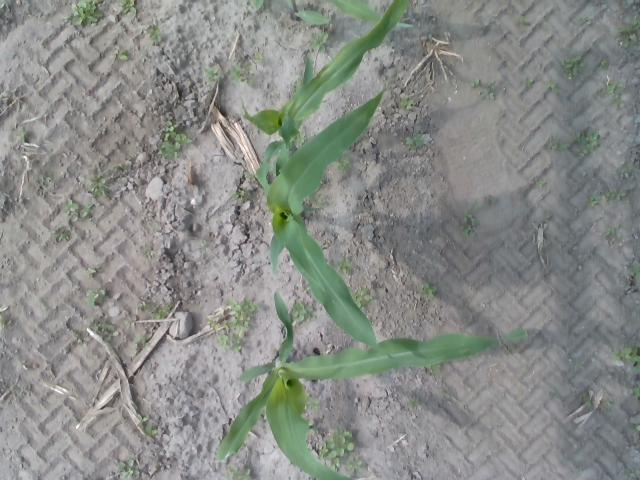Maize: (214, 291, 528, 480), (241, 0, 412, 211), (266, 88, 393, 360), (332, 0, 414, 27), (288, 0, 332, 25), (252, 1, 264, 12)
Weeds: (207, 294, 265, 354), (318, 421, 354, 472), (547, 130, 601, 156), (160, 121, 192, 159), (64, 0, 104, 26), (83, 168, 111, 199), (62, 198, 94, 224), (612, 344, 638, 374), (135, 299, 171, 320), (88, 318, 120, 340), (560, 55, 586, 80), (614, 24, 640, 48), (290, 299, 314, 324), (115, 458, 142, 480), (33, 168, 56, 192), (229, 64, 253, 86), (458, 211, 478, 237), (309, 31, 332, 53), (602, 186, 628, 202), (87, 286, 107, 306), (228, 464, 253, 480), (404, 132, 426, 150), (50, 226, 72, 244), (337, 254, 355, 274), (356, 287, 374, 307), (233, 184, 252, 202), (203, 64, 220, 84), (304, 393, 320, 414), (605, 81, 628, 95), (133, 334, 150, 352), (195, 234, 212, 252), (140, 241, 156, 260), (618, 162, 634, 180), (578, 390, 594, 408), (148, 22, 162, 42), (418, 282, 438, 296), (348, 458, 363, 475), (408, 393, 423, 410), (118, 0, 136, 14), (70, 328, 85, 344), (110, 48, 128, 61), (440, 386, 454, 402), (547, 75, 558, 95), (483, 195, 501, 207), (610, 94, 625, 108), (336, 158, 351, 172), (124, 315, 138, 330), (398, 98, 415, 110), (588, 191, 600, 208), (522, 76, 536, 90), (148, 218, 162, 232), (606, 400, 618, 416), (18, 130, 30, 145), (243, 171, 258, 183), (84, 266, 100, 277), (605, 226, 622, 236), (295, 132, 309, 144), (146, 425, 160, 437), (308, 416, 316, 437), (632, 382, 640, 402), (1, 90, 14, 102), (316, 191, 326, 206), (520, 14, 532, 26), (113, 164, 125, 176), (532, 177, 545, 188), (471, 77, 481, 91), (578, 16, 592, 26), (632, 264, 640, 281), (137, 412, 152, 421), (472, 199, 482, 212), (600, 59, 610, 70), (251, 51, 263, 60), (631, 422, 640, 434), (574, 363, 587, 371), (432, 364, 442, 374), (484, 91, 496, 99), (0, 313, 6, 328), (596, 92, 606, 100), (488, 81, 496, 89), (610, 236, 616, 246), (548, 117, 556, 123), (544, 215, 550, 222), (536, 64, 542, 70), (0, 3, 5, 9)
